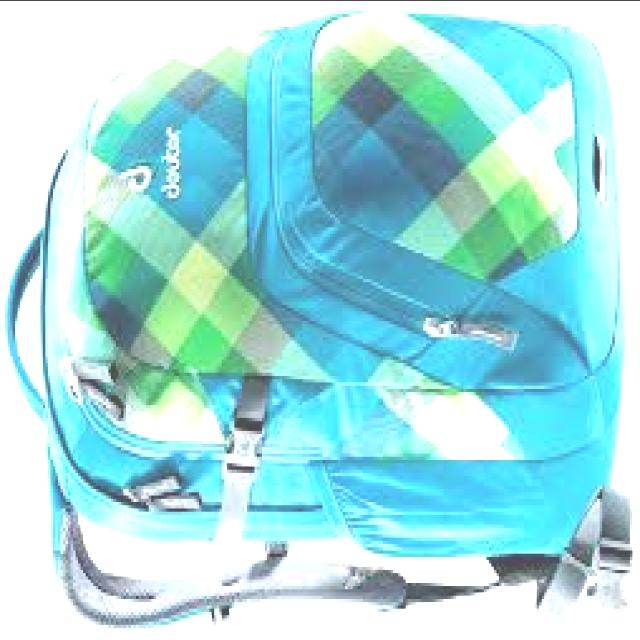backpack: (4, 8, 634, 632)
